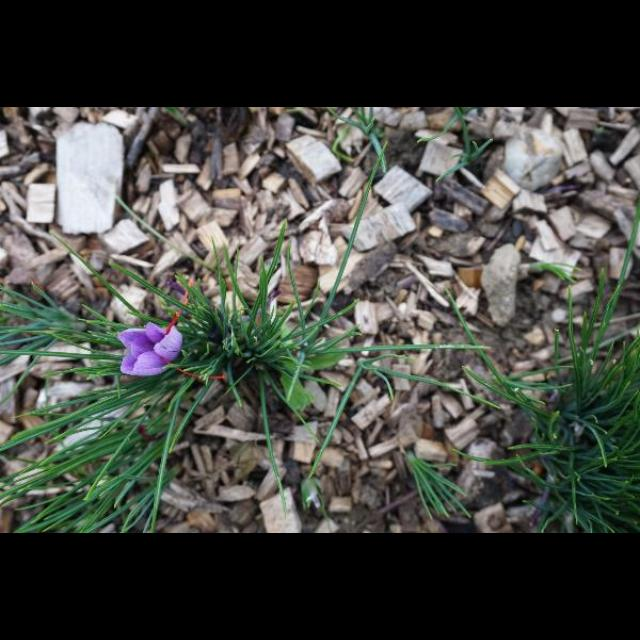flower: (118, 281, 225, 379)
